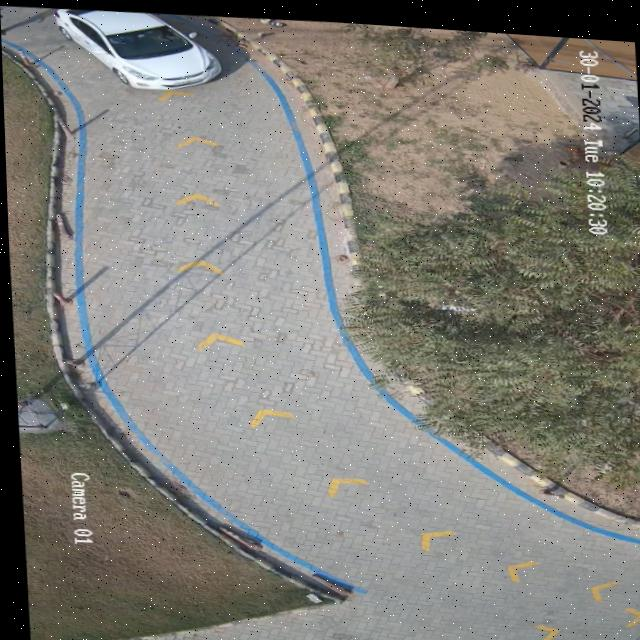car: (55, 8, 219, 87)
